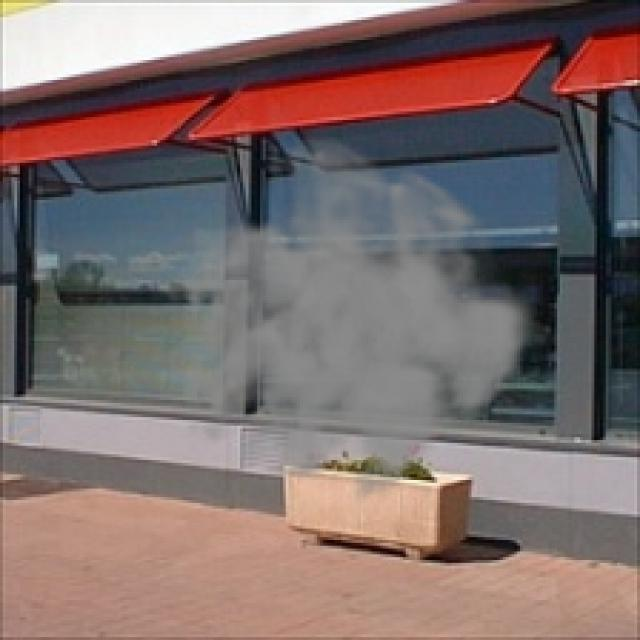Smoke: (160, 132, 540, 514)
